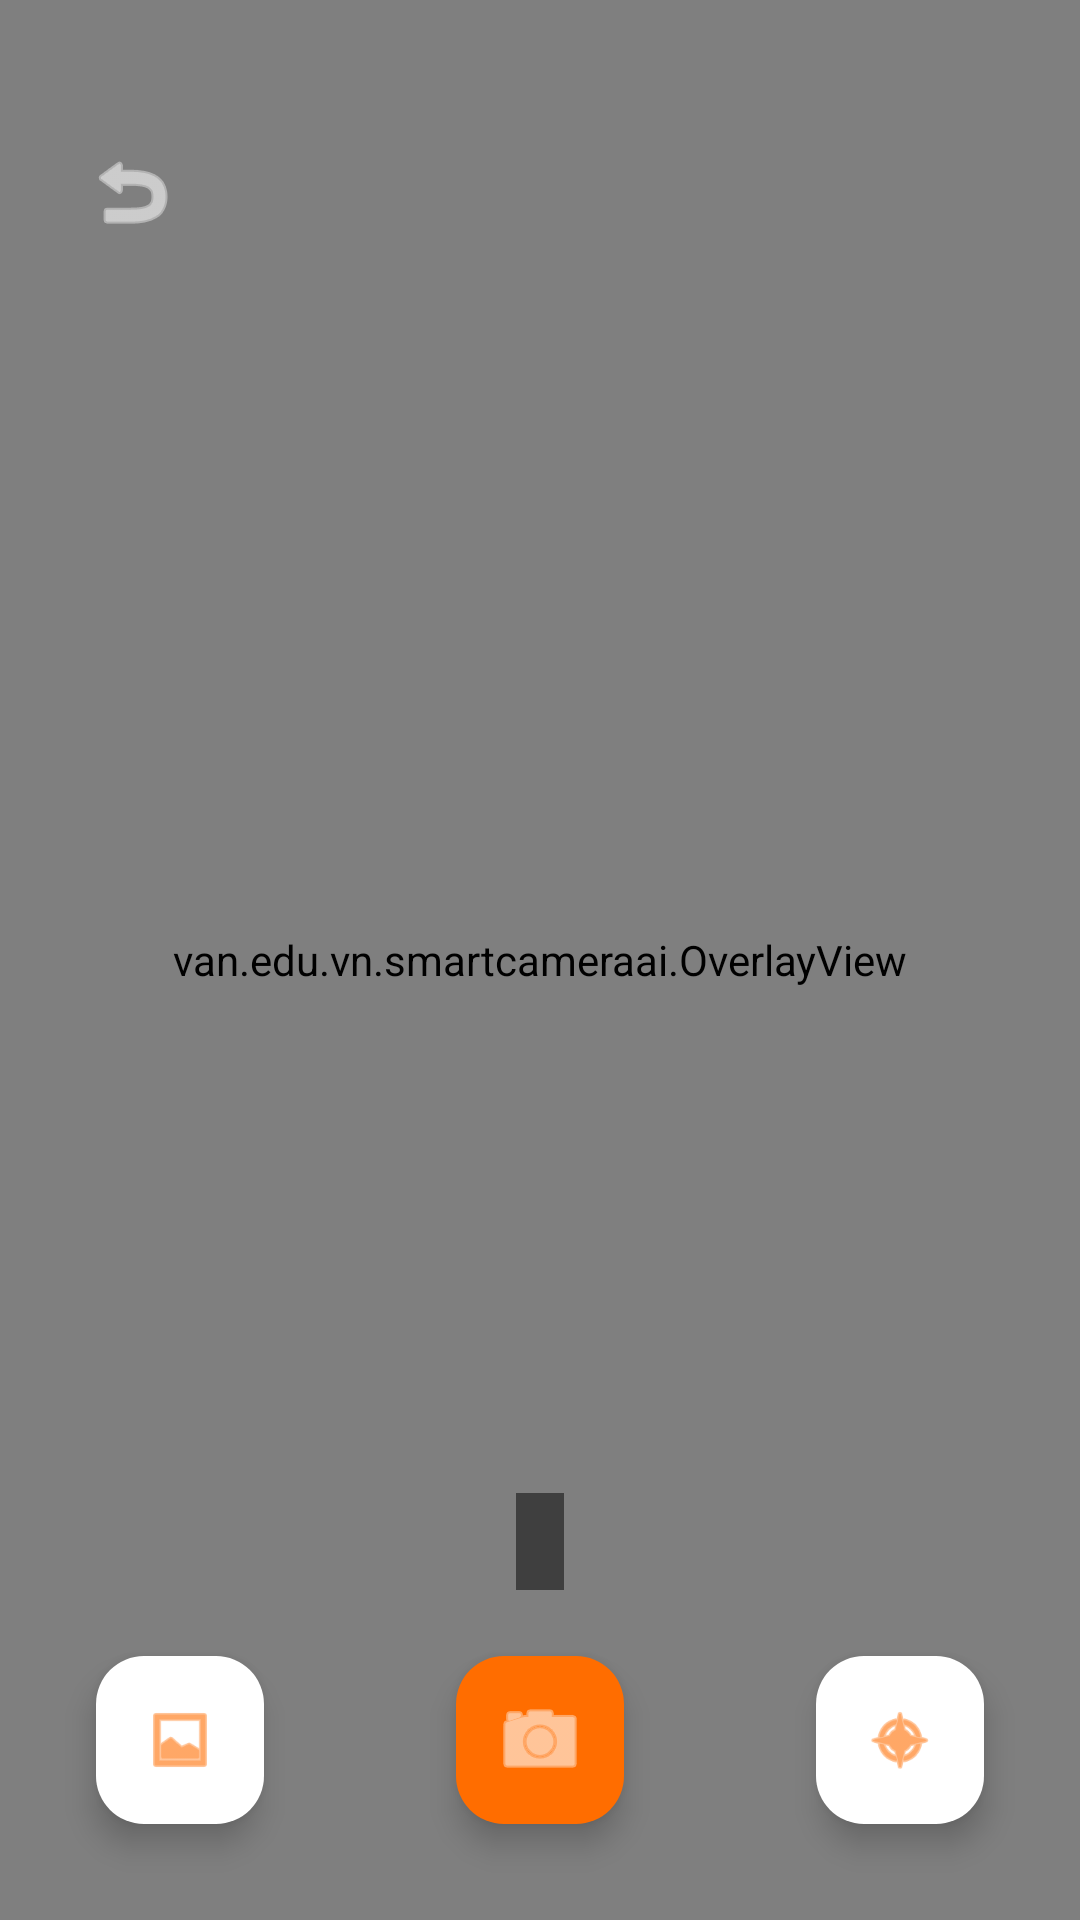

Named icons in this screenshot (1080 x 1920) and their bounding boxes, (x1,y1,x2,y2):
Back: (99,162,168,224)
Capture: (456,1656,624,1824)
Gallery: (96,1656,264,1824)
